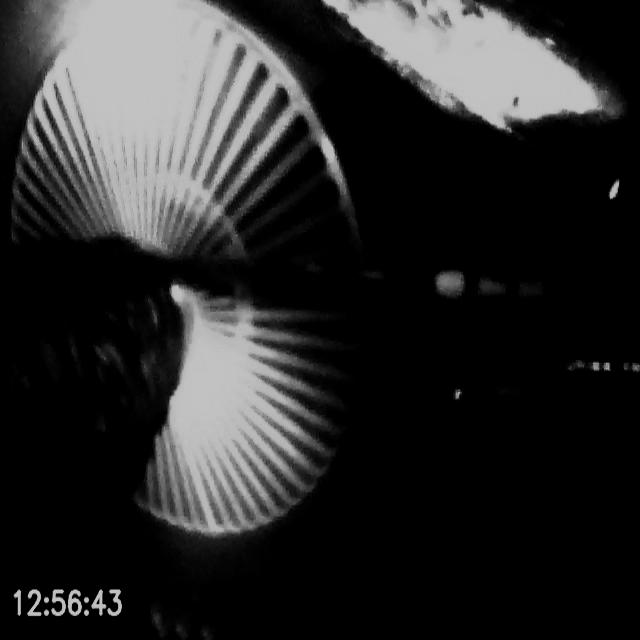white-dots: (434, 269, 544, 305)
